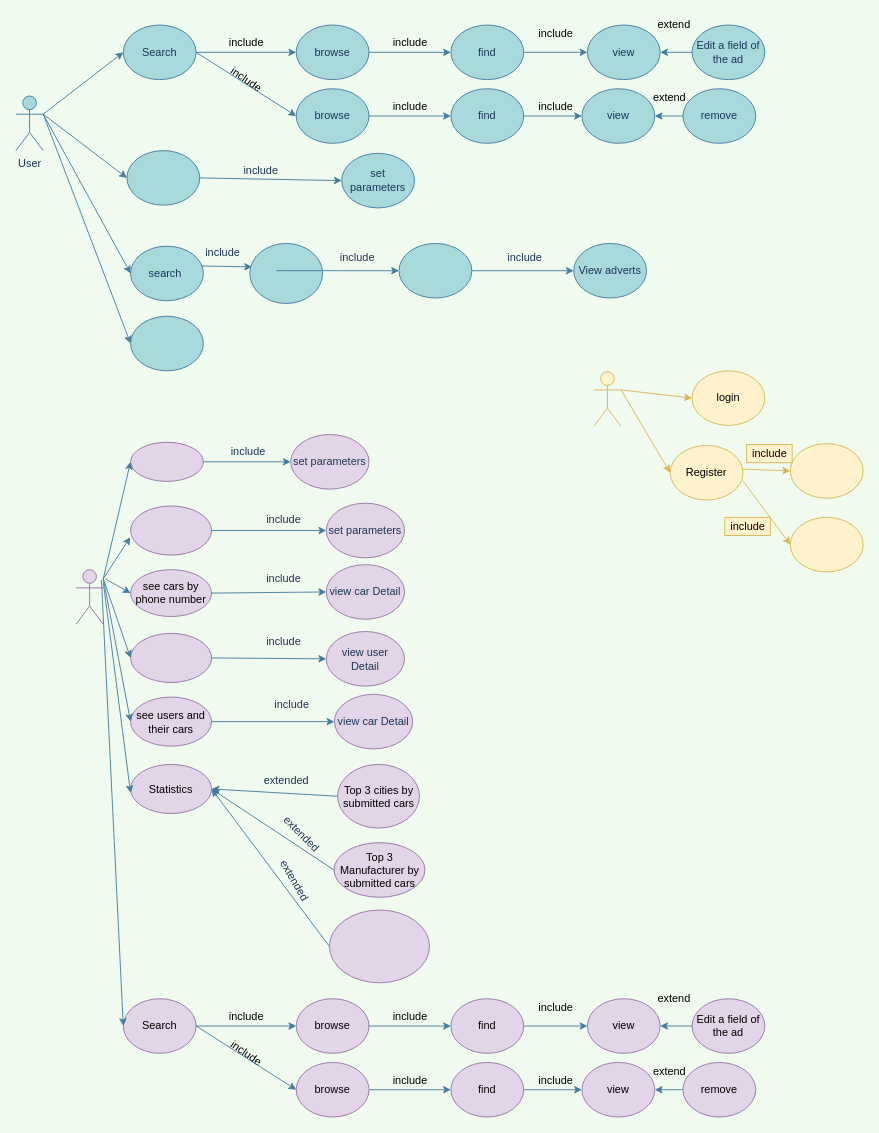
Some shapes in this 879 by 1133 pixel diagram are drawn without their labels. Each missing label, with the box of its shape:
5 most popular paint Color in our platform: (329, 909, 430, 983)
add advert: (126, 150, 200, 205)
Add new Advertisement: (130, 505, 212, 555)
Add new user: (130, 441, 203, 481)
Admin: (75, 569, 103, 624)
Anynomous: (593, 371, 621, 426)
Brows adverts by parameters: (249, 243, 323, 303)
find adverts: (398, 243, 472, 298)
see users by phone: (130, 632, 212, 682)
set phone number: (789, 443, 863, 498)
set the details: (789, 516, 863, 572)
view user adverts: (130, 315, 203, 371)
